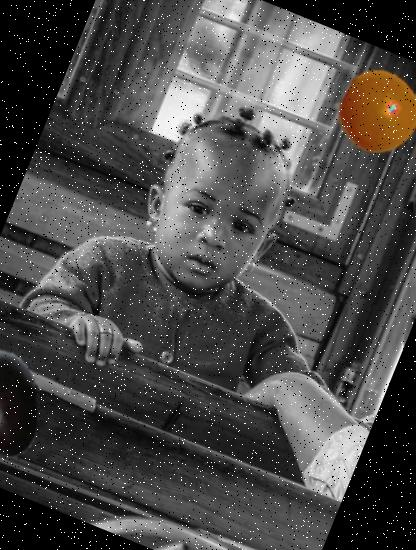Eggplant: (0, 330, 73, 476)
Physalis: (323, 57, 416, 168)
